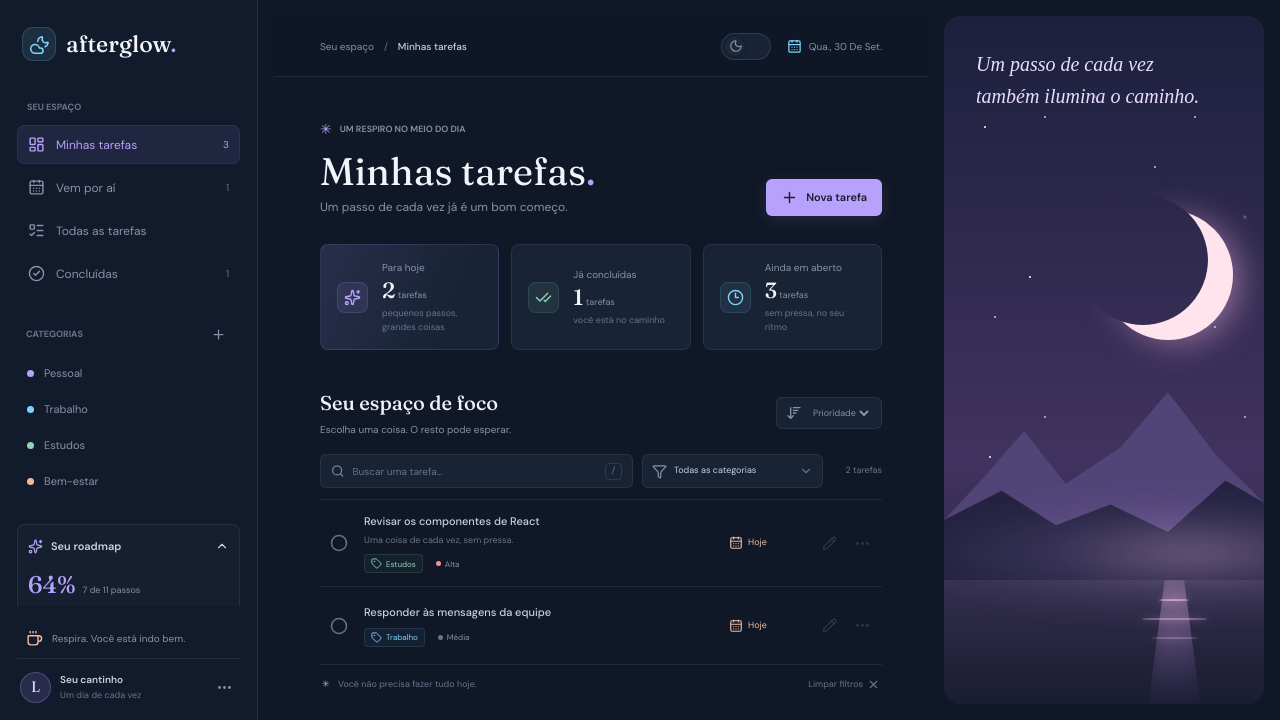
Afterglow › cria uma tarefa e salva no navegador
The image size is (1280, 720).
Click the button "Nova tarefa": click(824, 198) [766,179,882,216]
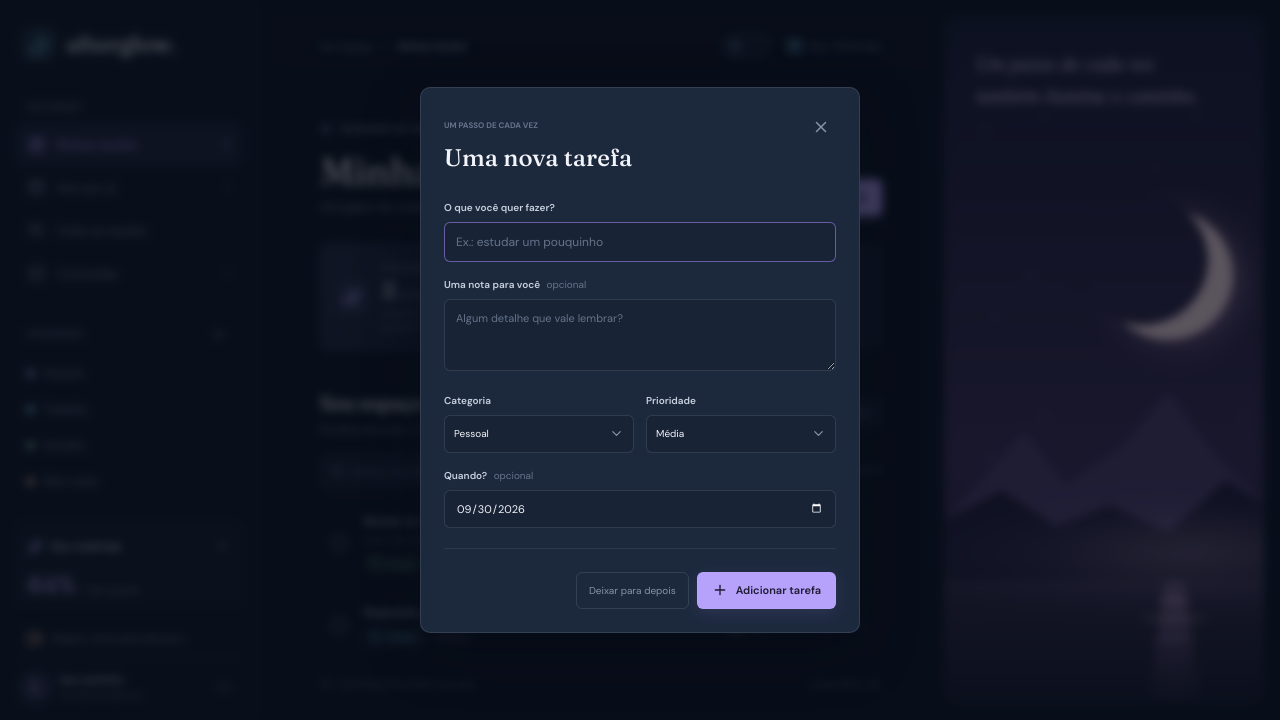
In the field labelled "O que você quer fazer?": (640, 242) [444,222,836,262], type "Preparar apresentação"
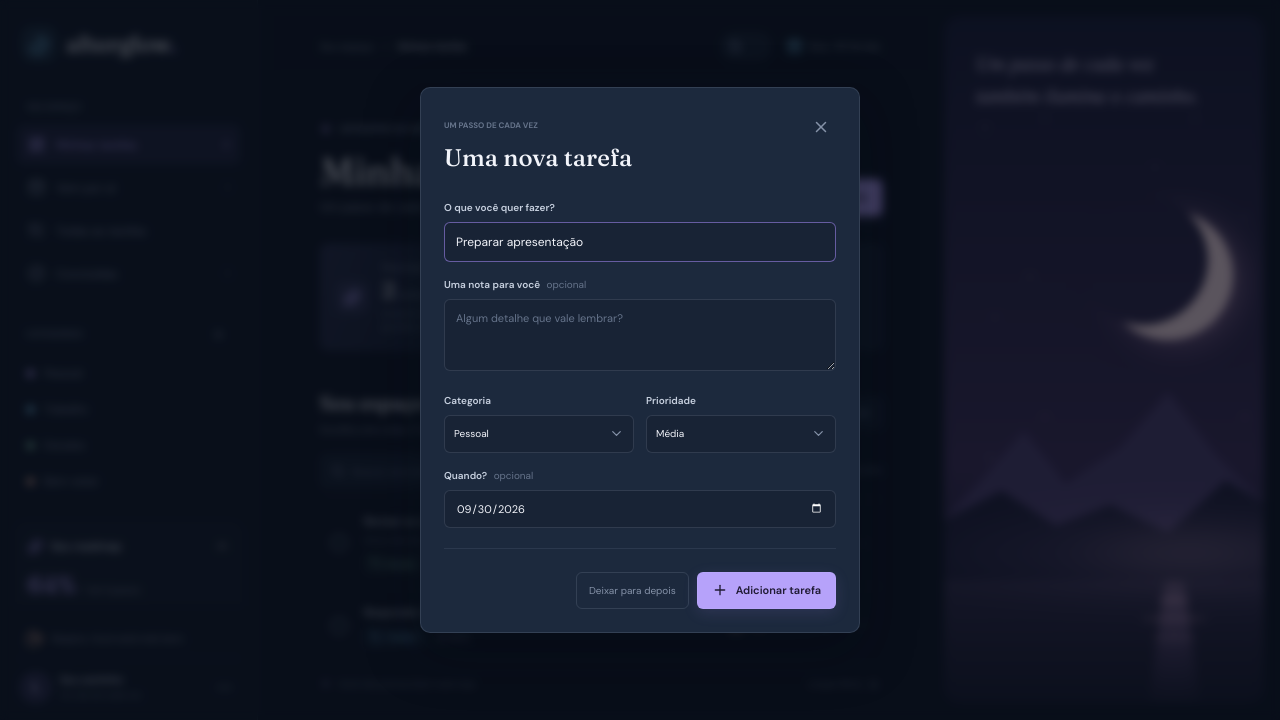
Click the button "Adicionar tarefa": click(766, 590) [697,572,836,609]
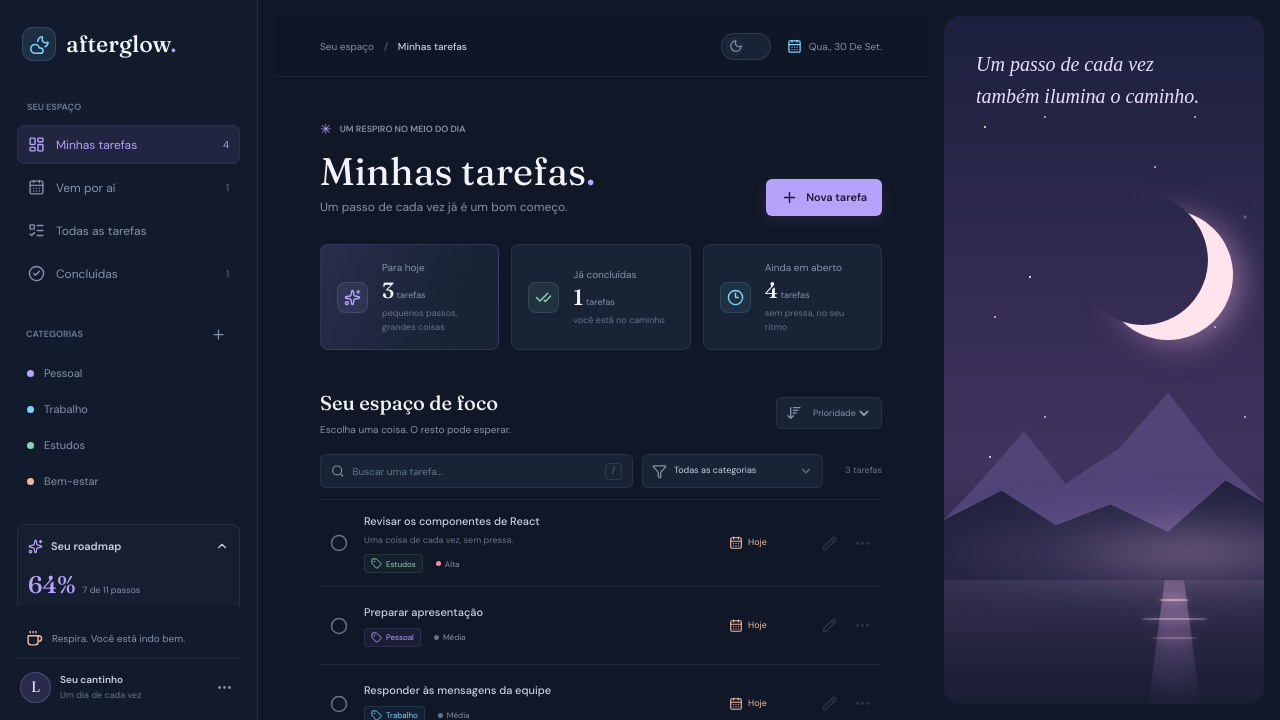
Result: the button "Preparar apresentação" is shown at [364,604,483,621]
